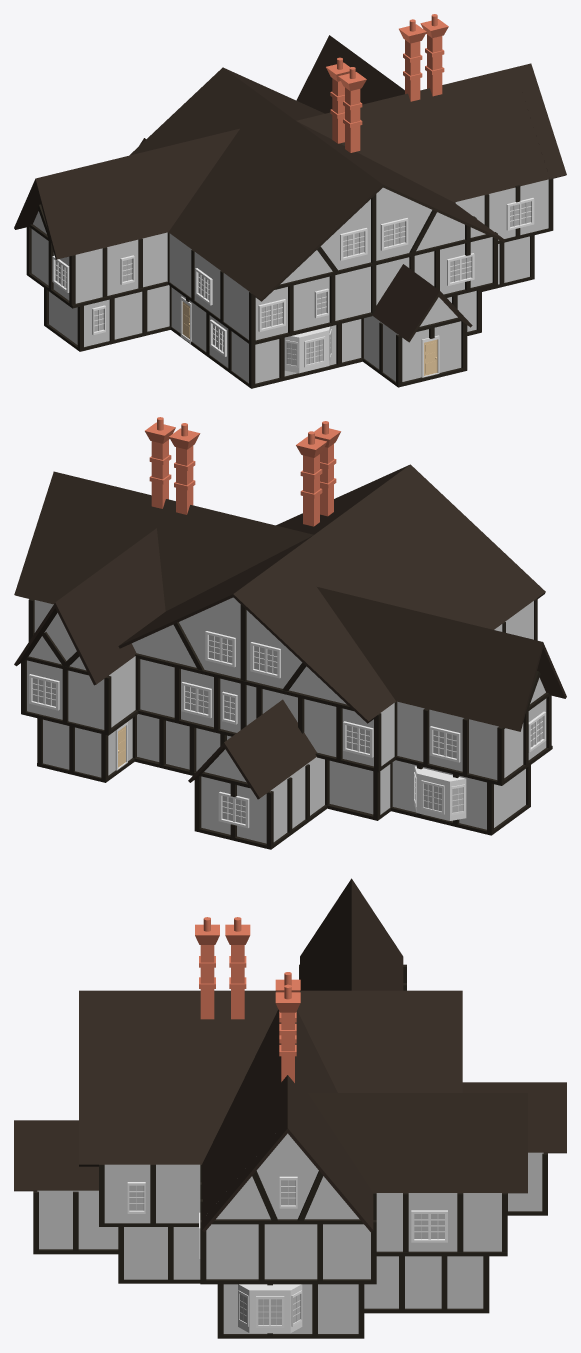
File: house.fbx
The picture shows the model from 3 angles, top to bottom: view 1: azimuth 30°, elevation 25°; view 2: azimuth 150°, elevation 25°; view 3: azimuth 270°, elevation 25°; orthographic projection. The views are drawn at different scales.
Visible parts, largest first — view 1: Body, DetailingCol, Windows, DetailingRow, Chimneys, Doors; view 2: Body, DetailingCol, Windows, DetailingRow, Chimneys, Doors; view 3: Body, DetailingCol, Windows, DetailingRow, Chimneys.
Part boxes in pixels (x1,y1,x2,y2): Body: (14,35,566,383); DetailingCol: (26,178,553,386); Windows: (52,198,534,373); DetailingRow: (26,224,553,388); Chimneys: (326,14,448,152); Doors: (180,296,439,377); Body: (14,464,566,843); DetailingCol: (21,598,551,847); Windows: (29,631,546,828); DetailingRow: (21,653,552,849); Chimneys: (145,417,340,526); Doors: (115,722,127,770); Body: (14,878,566,1333); DetailingCol: (33,964,547,1335); Windows: (127,1176,447,1333); DetailingRow: (33,1211,547,1338); Chimneys: (195,917,300,1082).
Bounding box in the file's own units: 2501 × 2132 × 1323.
